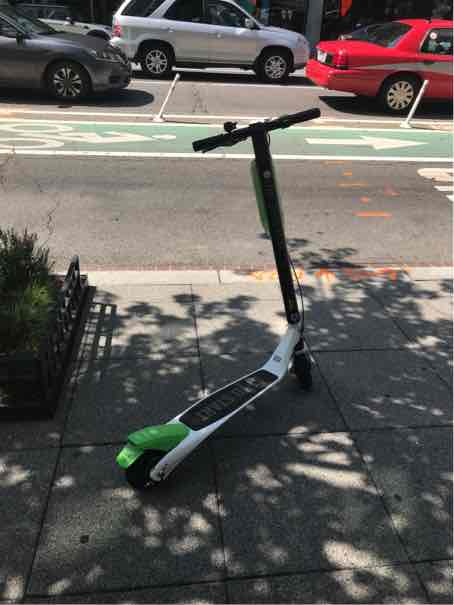scooter: (120, 113, 339, 495)
